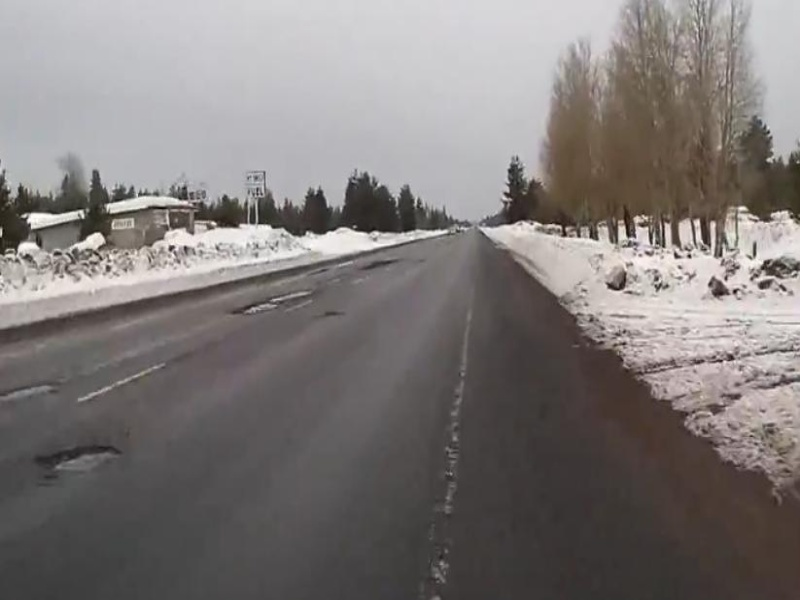pothole: (44, 437, 127, 478)
